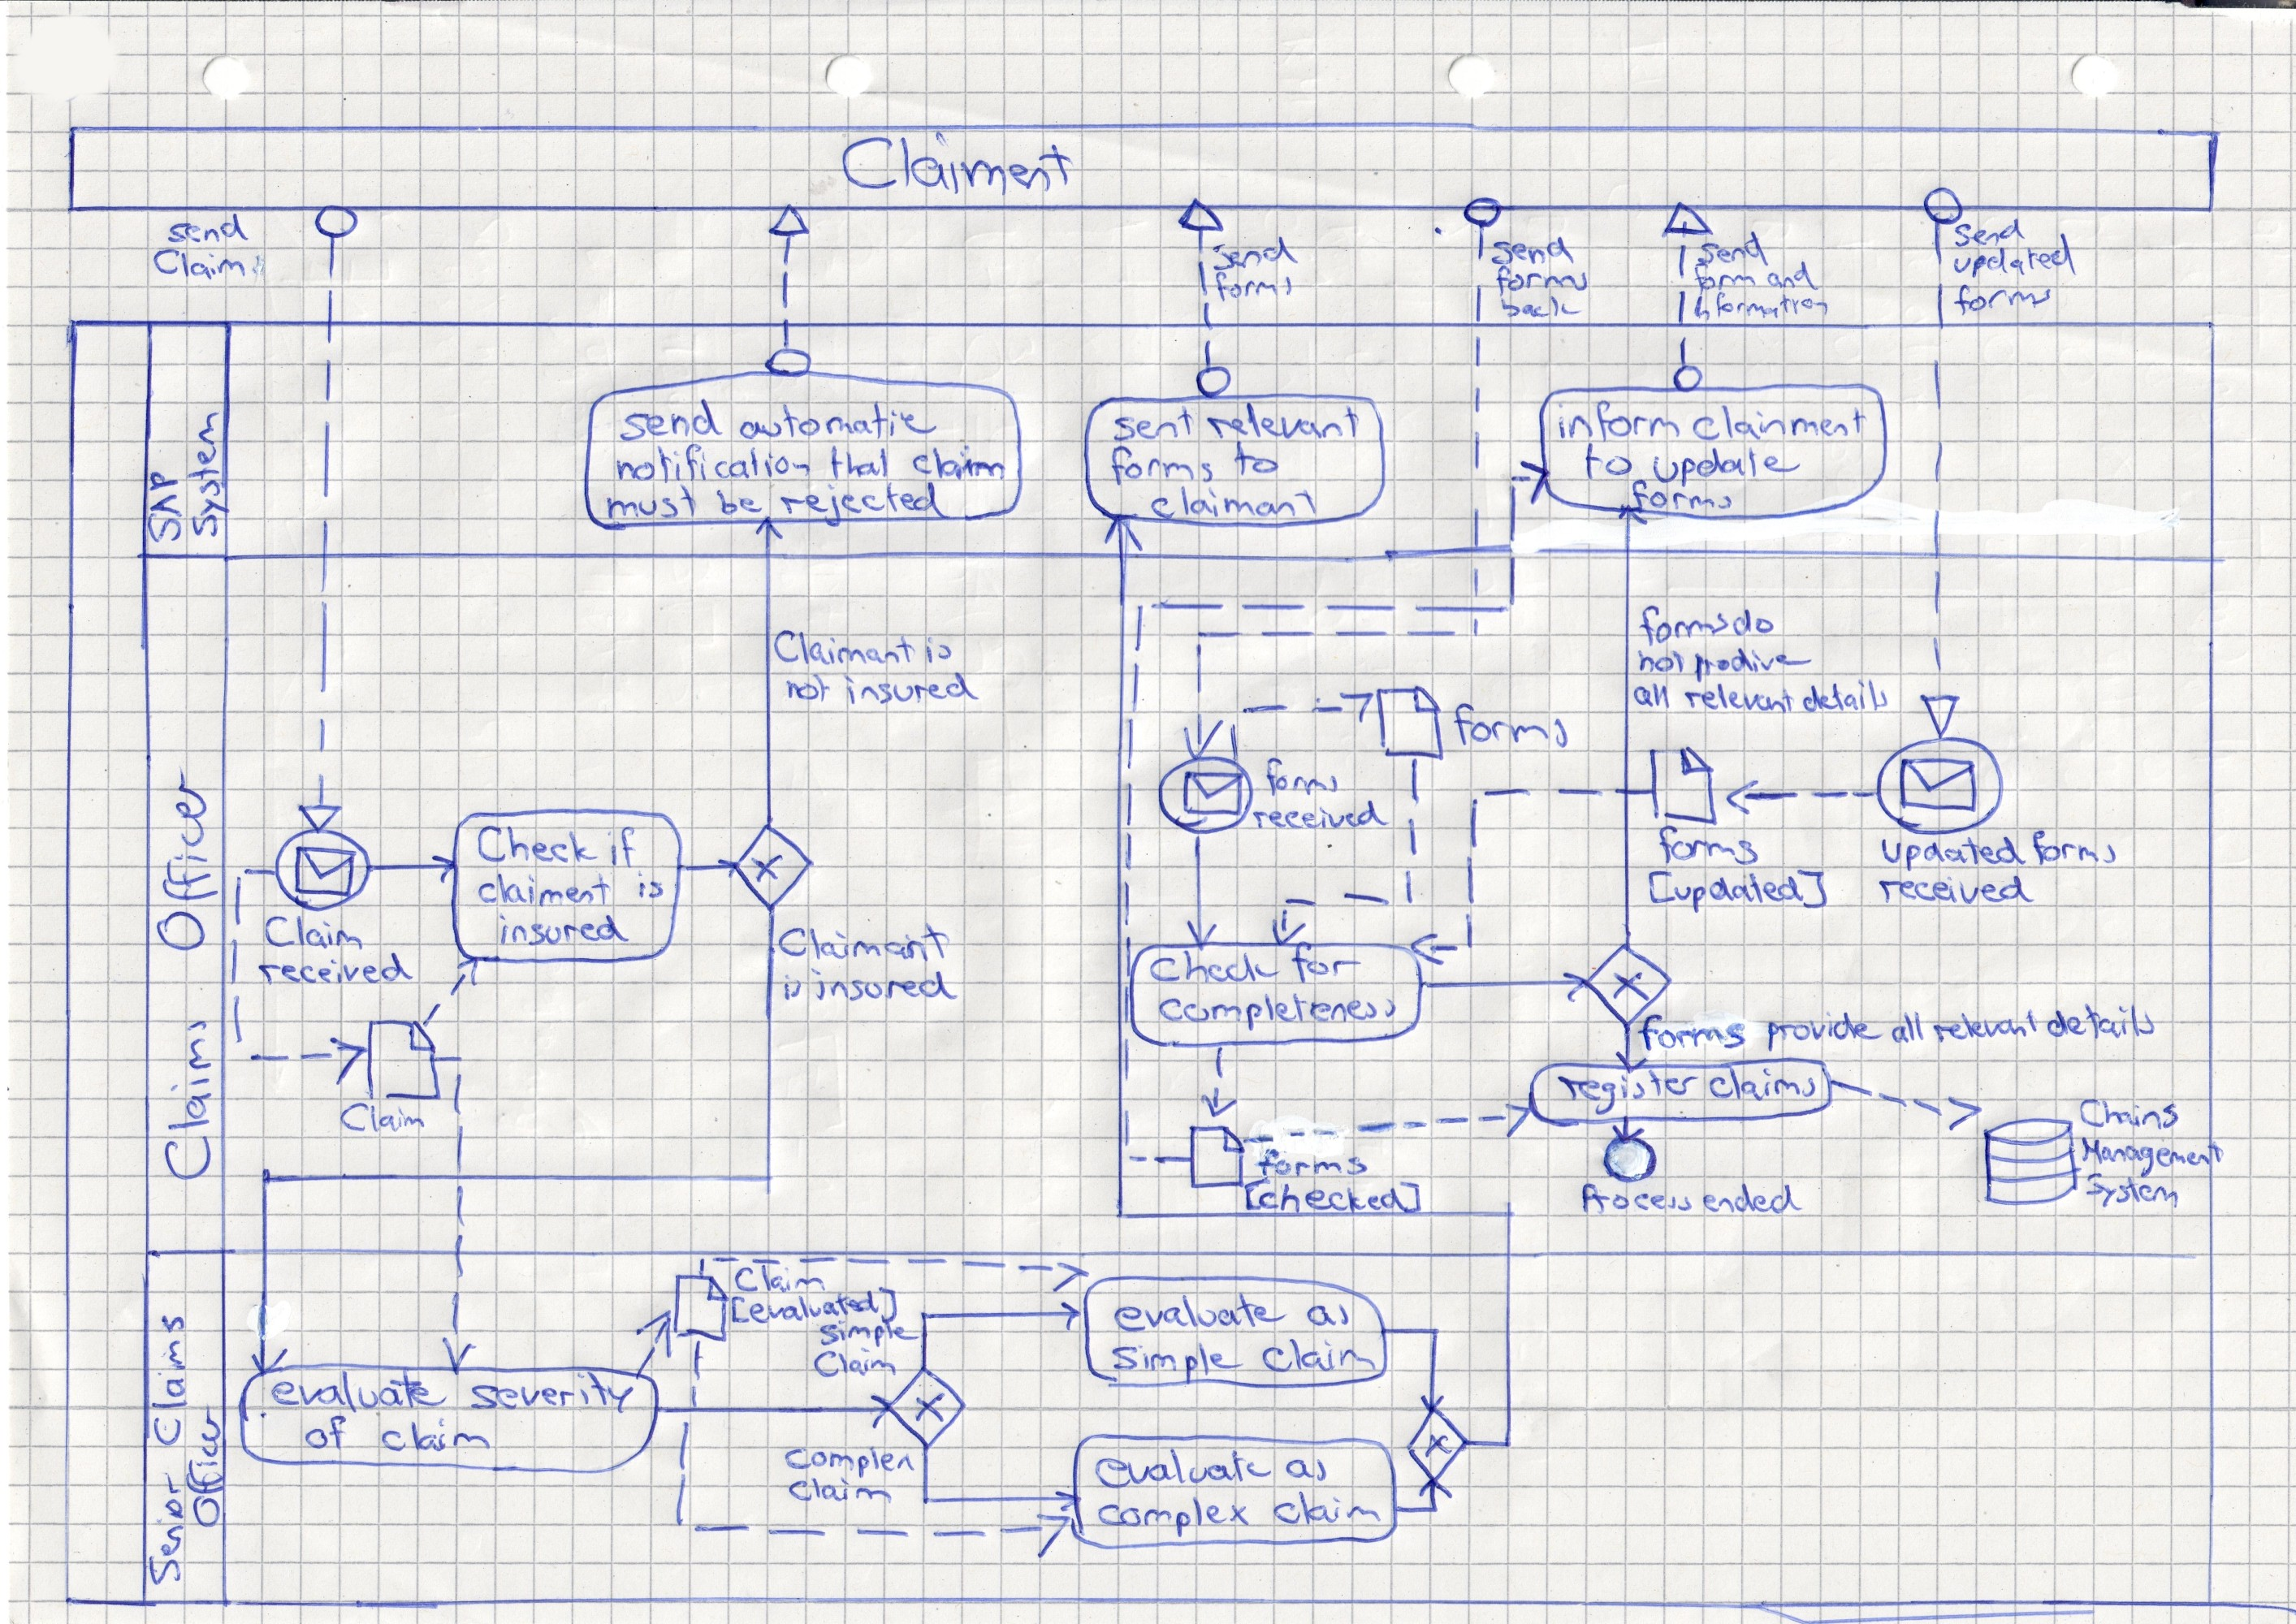Chains: (2076, 1097, 2180, 1135)
Check: (1155, 946, 1278, 991), (482, 824, 589, 870)
Claim: (1264, 1339, 1373, 1378), (786, 1475, 895, 1510), (269, 916, 366, 949), (160, 248, 244, 285), (341, 1100, 424, 1137), (738, 1262, 828, 1294), (816, 1348, 895, 1381)
Claimant: (786, 926, 953, 963), (777, 627, 909, 671)
Claiment: (846, 135, 1074, 195)
Claims: (163, 1012, 218, 1181), (149, 1315, 190, 1438)
Complex: (789, 1443, 916, 1476)
Information: (1682, 290, 1832, 323)
Management: (2083, 1132, 2222, 1172)
Officer: (153, 773, 214, 942), (186, 1406, 220, 1529)
Process ended: (1588, 1181, 1806, 1218)
SAP: (142, 464, 186, 540)
Senior: (148, 1471, 188, 1578)
Simple: (1115, 1339, 1243, 1380)
System: (186, 406, 227, 534), (2082, 1172, 2180, 1211)
Updated: (1883, 831, 2018, 872)
[checked]: (1243, 1181, 1422, 1214)
[evaluated]: (730, 1285, 897, 1323)
[updated]: (1653, 865, 1834, 912)
all: (1635, 680, 1677, 715), (1893, 1007, 1925, 1048)
and: (1767, 262, 1818, 290)
as: (1283, 1446, 1326, 1485), (1310, 1294, 1345, 1334)
automatic: (738, 399, 939, 445)
back: (1500, 292, 1577, 322)
be: (717, 487, 763, 515)
claim: (1276, 1492, 1382, 1533), (911, 445, 1007, 487), (385, 1420, 492, 1457)
claimant: (1152, 487, 1317, 524)
claiment: (476, 874, 619, 909)
claims: (1711, 1067, 1818, 1104)
clainment: (1695, 406, 1860, 445)
completeness: (1160, 991, 1399, 1030)
complex: (1090, 1494, 1255, 1533)
details: (2046, 1004, 2155, 1046), (1804, 680, 1890, 717)
do: (1732, 601, 1776, 643)
evaluate: (269, 1366, 457, 1413), (1097, 1448, 1276, 1494), (1115, 1294, 1280, 1336)
for: (1285, 944, 1362, 986)
form: (1695, 265, 1758, 292)
forms: (1447, 705, 1568, 752), (1101, 443, 1222, 487), (1653, 826, 1763, 868), (1628, 485, 1737, 522), (1640, 605, 1730, 647), (2027, 830, 2124, 868), (1951, 283, 2055, 318), (1642, 1014, 1746, 1048), (1259, 761, 1345, 800), (1211, 267, 1297, 304), (1259, 1153, 1368, 1181), (1493, 267, 1591, 297)
if: (599, 824, 642, 868)
inform: (1549, 404, 1688, 446)
insured: (807, 968, 958, 1007), (492, 910, 628, 951), (839, 671, 977, 708)
is: (916, 631, 955, 671), (629, 874, 665, 909), (775, 974, 805, 1004)
must: (610, 489, 701, 524)
not: (1638, 645, 1684, 680), (782, 675, 828, 705)
notification: (614, 445, 816, 490)
of: (299, 1413, 359, 1455)
prodive: (1686, 640, 1809, 682)
provide: (1756, 1011, 1879, 1055)
received: (260, 951, 410, 990), (1881, 874, 2034, 909), (1250, 800, 1389, 837)
register: (1559, 1069, 1697, 1104)
rejected: (781, 483, 937, 522)
relevant: (1208, 406, 1368, 446), (1927, 1005, 2039, 1048), (1682, 680, 1797, 717)
send: (1210, 234, 1299, 271), (624, 404, 721, 438), (163, 213, 250, 246), (1953, 214, 2031, 251), (1496, 236, 1577, 269), (1698, 234, 1767, 262)
sent: (1115, 406, 1195, 441)
severity: (473, 1373, 635, 1415)
simple: (823, 1320, 914, 1348)
that: (823, 445, 890, 480)
to: (1229, 443, 1283, 483), (1580, 446, 1637, 482)
update: (1656, 445, 1791, 485)
updated: (1953, 246, 2078, 279)
